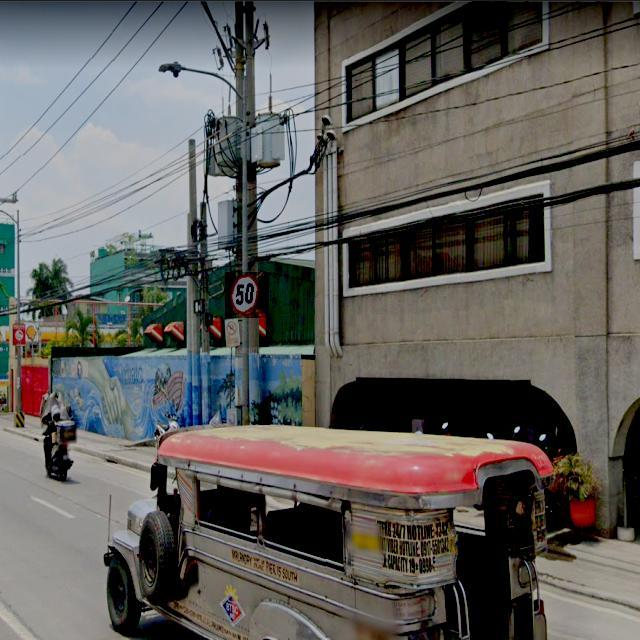50 kph: (225, 272, 269, 318)
